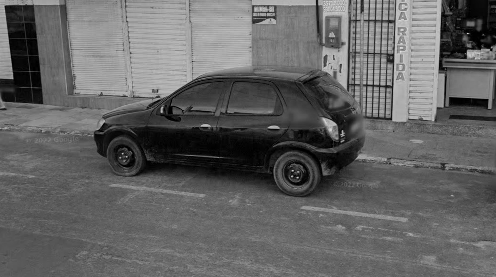car: (92, 63, 369, 200)
